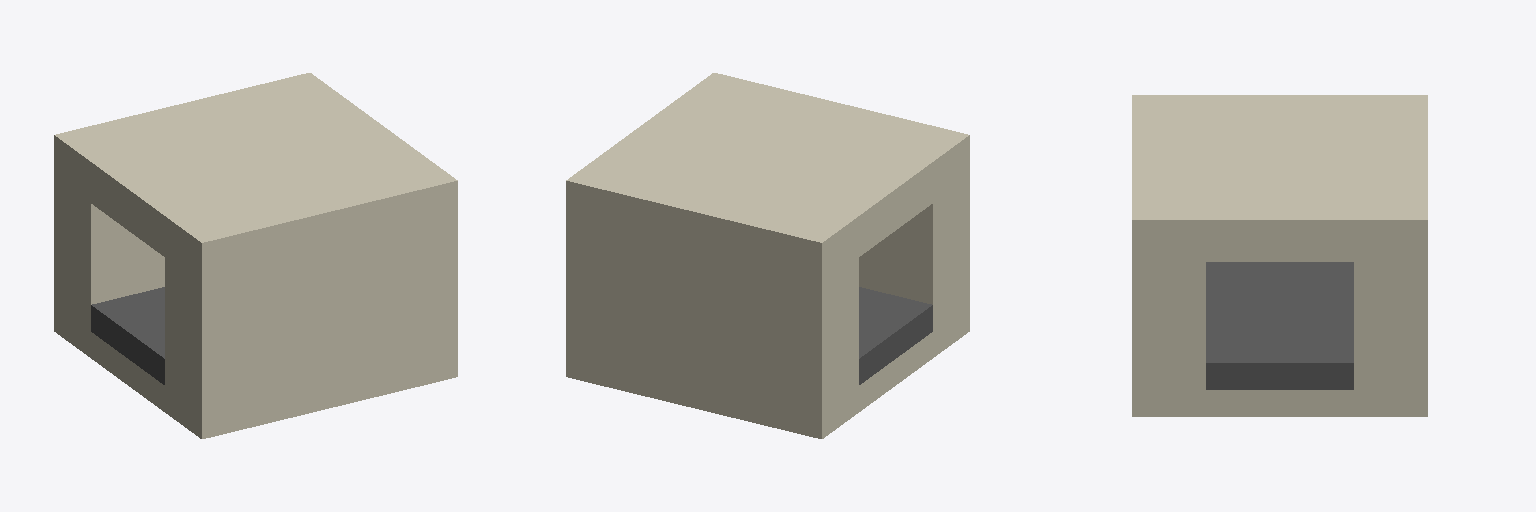
3 views of the same model, side by side, from view 1: azimuth 30°, elevation 25°; view 2: azimuth 150°, elevation 25°; view 3: azimuth 270°, elevation 25° (orthographic).
Parts seen in each view (by area): view 1: roadTile_223.001; view 2: roadTile_223.001; view 3: roadTile_223.001.
Boxes of the visible parts, <box> form: roadTile_223.001: <box>54,73,457,438</box>; roadTile_223.001: <box>566,73,969,438</box>; roadTile_223.001: <box>1132,95,1427,416</box>.
Bounding box in the file's own units: 3 × 2.2 × 3.